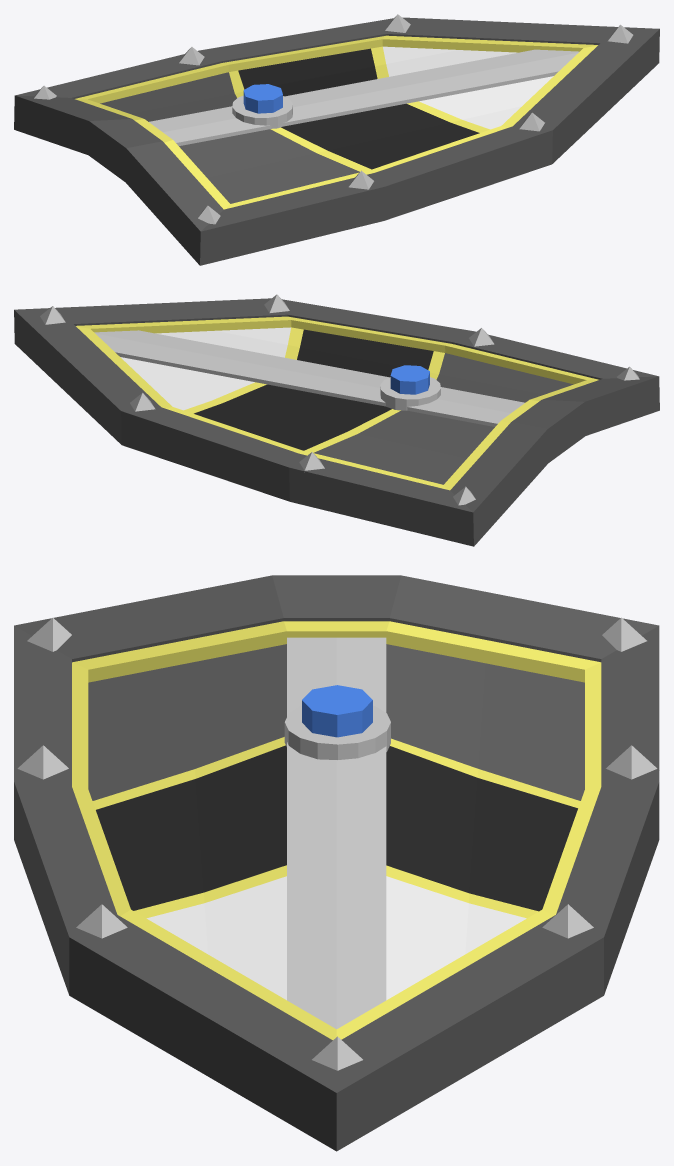
Rendered from Shield_4_e_gr.fbx.
3 renders of one model, top to bottom at view 1: azimuth 30°, elevation 25°; view 2: azimuth 150°, elevation 25°; view 3: azimuth 270°, elevation 25°, orthographic. The views are drawn at different scales.
Parts seen in each view (by area): view 1: Plane.319, Plane.327, Plane.325, Plane.324, Plane.322, Plane.323, Plane.326, Circle.402, Circle.401; view 2: Plane.319, Plane.325, Plane.327, Plane.324, Plane.322, Plane.323, Plane.326, Circle.402, Circle.401; view 3: Plane.319, Plane.325, Plane.324, Plane.327, Plane.322, Plane.323, Plane.326, Circle.402, Circle.401, Cone.570, Cone.566, Cone.569 (+4 smaller).
Boxes of the visible parts, x1=… form: Plane.319: x1=14, y1=17, x2=659, y2=265; Plane.327: x1=149, y1=49, x2=579, y2=145; Plane.325: x1=100, y1=72, x2=359, y2=203; Plane.324: x1=238, y1=48, x2=479, y2=169; Plane.322: x1=75, y1=35, x2=597, y2=209; Plane.323: x1=383, y1=46, x2=553, y2=129; Plane.326: x1=229, y1=46, x2=489, y2=171; Circle.402: x1=232, y1=95, x2=292, y2=128; Circle.401: x1=243, y1=84, x2=282, y2=113; Plane.319: x1=14, y1=298, x2=659, y2=546; Plane.325: x1=314, y1=353, x2=573, y2=484; Plane.327: x1=94, y1=330, x2=524, y2=426; Plane.324: x1=194, y1=329, x2=433, y2=450; Plane.322: x1=76, y1=316, x2=598, y2=490; Plane.323: x1=120, y1=327, x2=290, y2=410; Plane.326: x1=184, y1=327, x2=444, y2=452; Circle.402: x1=380, y1=377, x2=440, y2=410; Circle.401: x1=390, y1=365, x2=429, y2=394; Plane.319: x1=14, y1=575, x2=659, y2=1151; Plane.325: x1=88, y1=644, x2=584, y2=800; Plane.324: x1=96, y1=745, x2=577, y2=911; Plane.327: x1=287, y1=637, x2=386, y2=1029; Plane.322: x1=72, y1=621, x2=601, y2=1039; Plane.323: x1=146, y1=876, x2=526, y2=1000; Plane.326: x1=92, y1=737, x2=580, y2=918; Circle.402: x1=284, y1=705, x2=390, y2=759; Circle.401: x1=302, y1=685, x2=372, y2=737; Cone.570: x1=606, y1=745, x2=659, y2=779; Cone.566: x1=76, y1=904, x2=127, y2=938; Cone.569: x1=17, y1=745, x2=68, y2=779.
Size of the model in its own units: 78.1 by 17.09 by 45.54.
